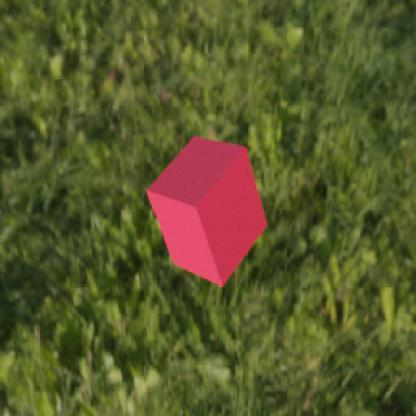cube: (146, 135, 266, 286)
